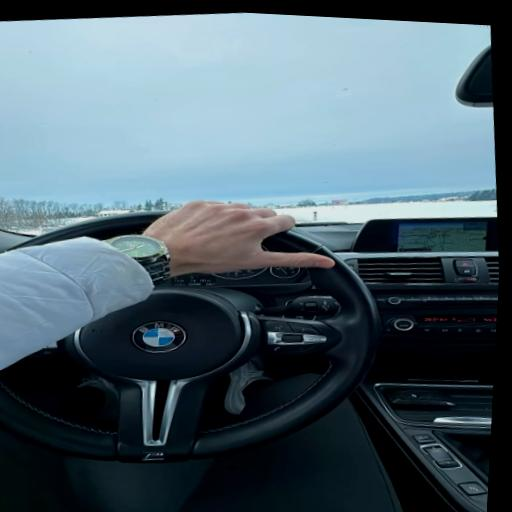Hands-on-the-Wheel: (82, 153, 374, 307)
